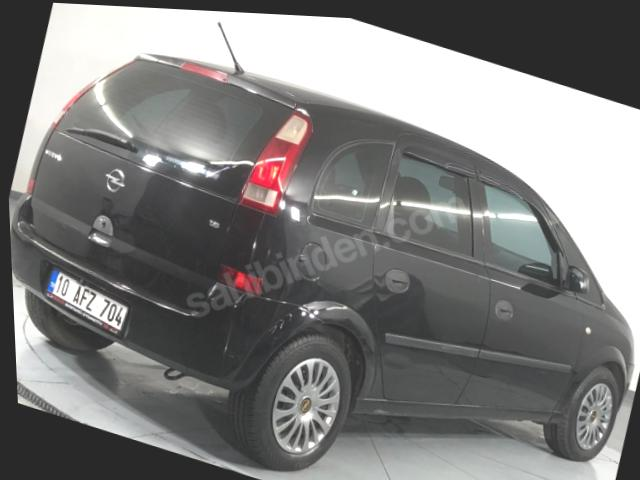plaka: (45, 270, 128, 334)
